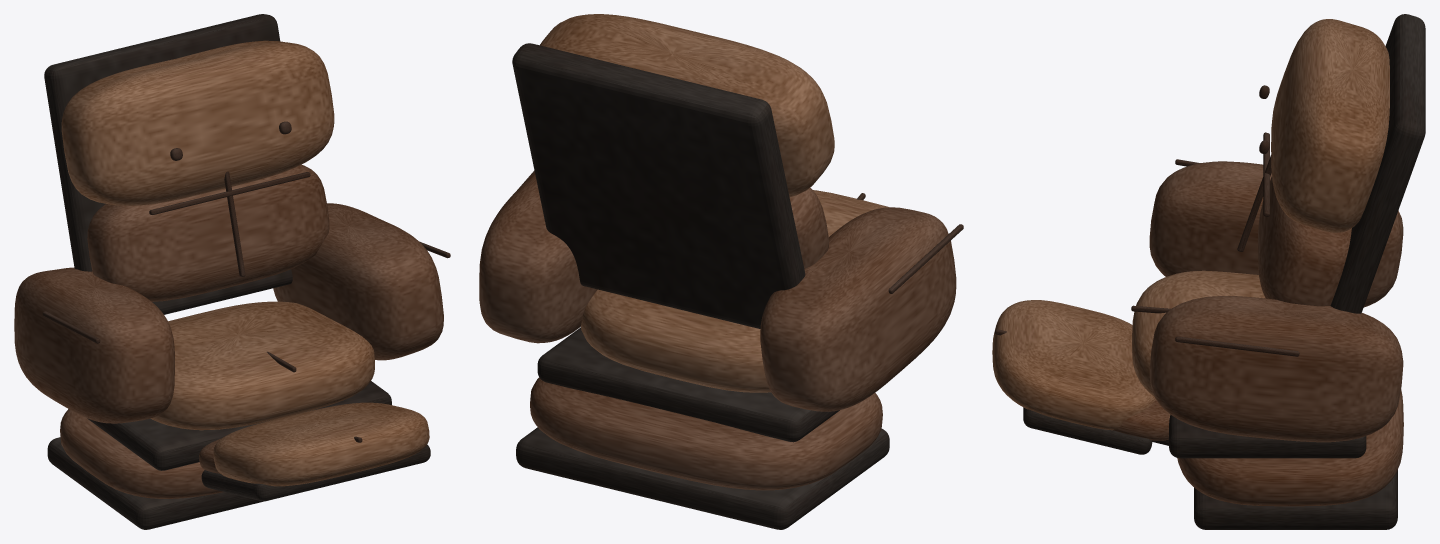
File: refined-deterministic-recliner.glb
3 renders of one model, left to right at view 1: azimuth 30°, elevation 25°; view 2: azimuth 150°, elevation 25°; view 3: azimuth 270°, elevation 25°, orthographic. The views are drawn at different scales.
Visible parts, largest first — view 1: back_cushion_upper, seat_cushion, back_cushion_lower, left_arm, right_arm, footrest_cushion, back_frame, base_skirt, base, seat_frame, footrest_frame, back_horizontal_seam (+1 smaller); view 2: back_frame, left_arm, base_skirt, back_cushion_upper, right_arm, seat_cushion, base, seat_frame, back_cushion_lower, footrest_cushion, left_arm_piping; view 3: right_arm, back_cushion_upper, footrest_cushion, left_arm, back_frame, base_skirt, back_cushion_lower, base, seat_cushion, seat_frame, footrest_frame, footrest_continuity_shroud (+2 smaller).
Boxes of the visible parts, <box> form: back_cushion_upper: <box>61,40,334,205</box>; seat_cushion: <box>150,301,374,430</box>; back_cushion_lower: <box>87,164,329,301</box>; left_arm: <box>14,267,174,423</box>; right_arm: <box>273,203,443,360</box>; footrest_cushion: <box>213,402,429,486</box>; back_frame: <box>44,14,292,314</box>; base_skirt: <box>60,409,223,498</box>; base: <box>47,437,263,529</box>; seat_frame: <box>87,381,391,470</box>; footrest_frame: <box>201,444,430,501</box>; back_horizontal_seam: <box>149,172,310,214</box>; back_frame: <box>512,43,805,328</box>; left_arm: <box>760,207,956,411</box>; base_skirt: <box>530,377,882,490</box>; back_cushion_upper: <box>540,14,834,196</box>; right_arm: <box>479,172,597,343</box>; seat_cushion: <box>581,289,770,392</box>; base: <box>516,427,889,529</box>; seat_frame: <box>537,327,839,442</box>; back_cushion_lower: <box>789,187,829,268</box>; footrest_cushion: <box>813,190,889,236</box>; left_arm_piping: <box>888,224,963,293</box>; right_arm: <box>1149,296,1403,442</box>; back_cushion_upper: <box>1271,19,1389,232</box>; footrest_cushion: <box>992,300,1155,430</box>; left_arm: <box>1149,161,1403,307</box>; back_frame: <box>1330,14,1425,313</box>; base_skirt: <box>1177,389,1403,506</box>; back_cushion_lower: <box>1257,176,1351,306</box>; base: <box>1194,470,1397,529</box>; seat_cushion: <box>1132,270,1265,396</box>; seat_frame: <box>1169,414,1366,458</box>; footrest_frame: <box>1023,407,1152,454</box>; footrest_continuity_shroud: <box>1113,400,1170,440</box>.
Bounding box in the file's own units: 1.96 × 2.09 × 2.
Materials: 4 (4 with a texture image).
